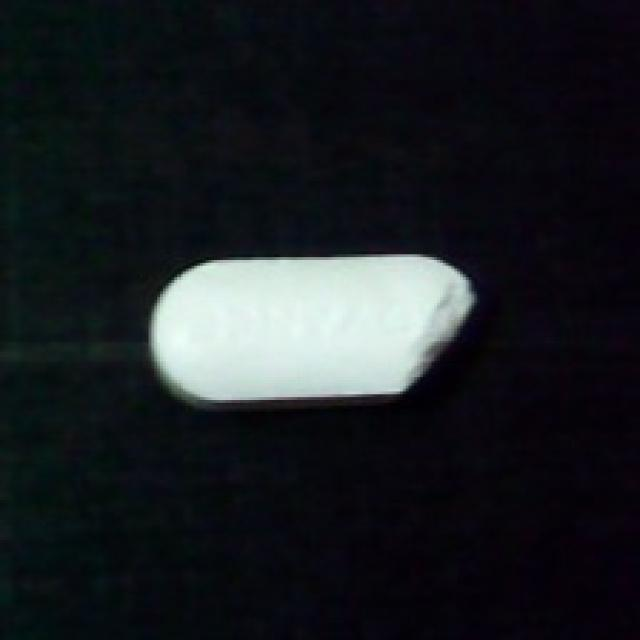defected: (146, 246, 486, 414)
